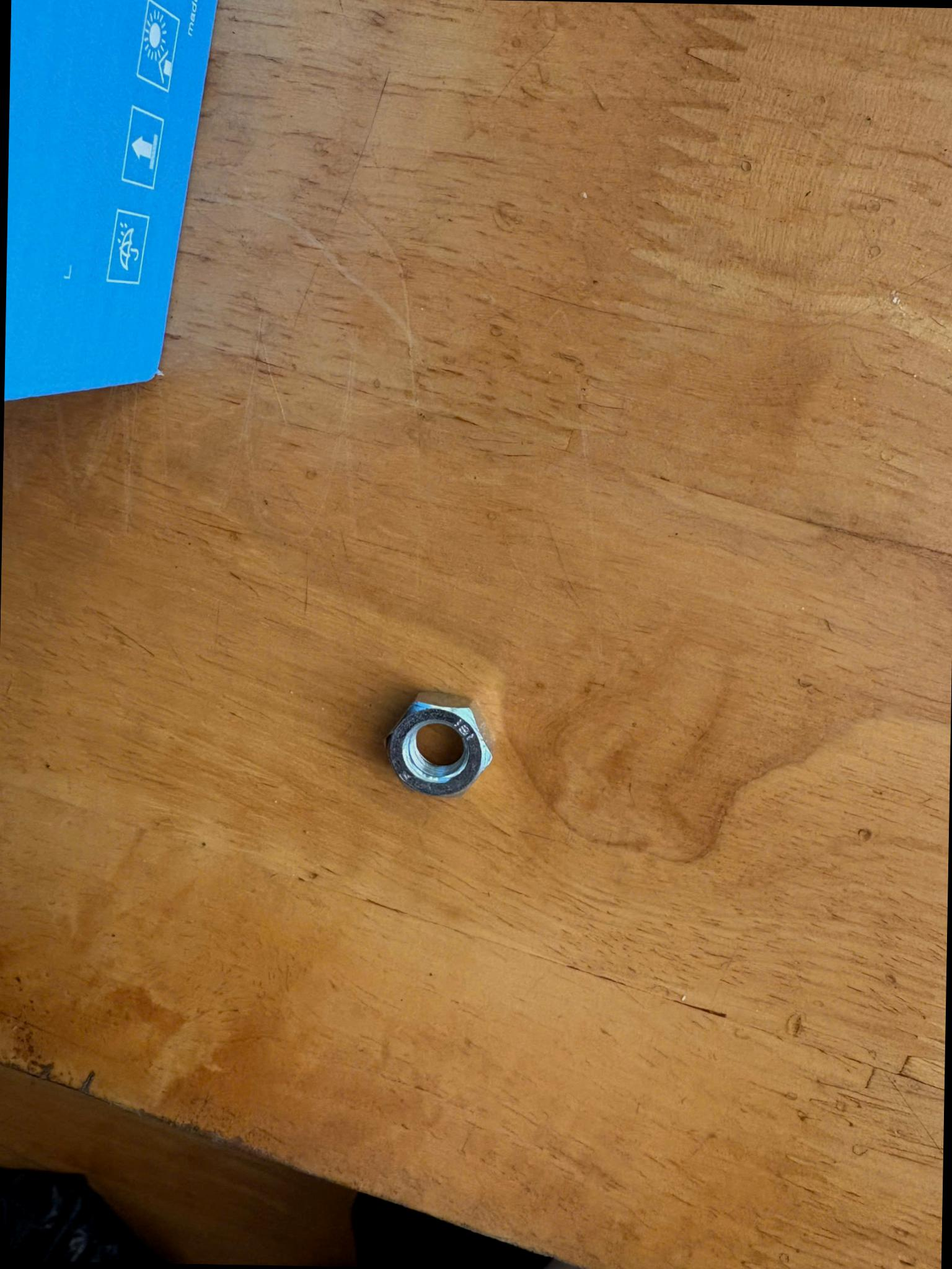nut: (364, 685, 499, 804)
